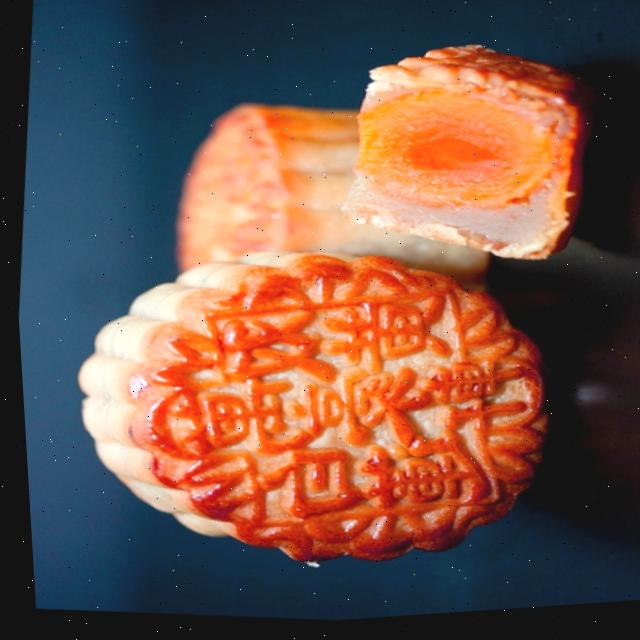蛋糕甜品: (36, 4, 622, 618)
